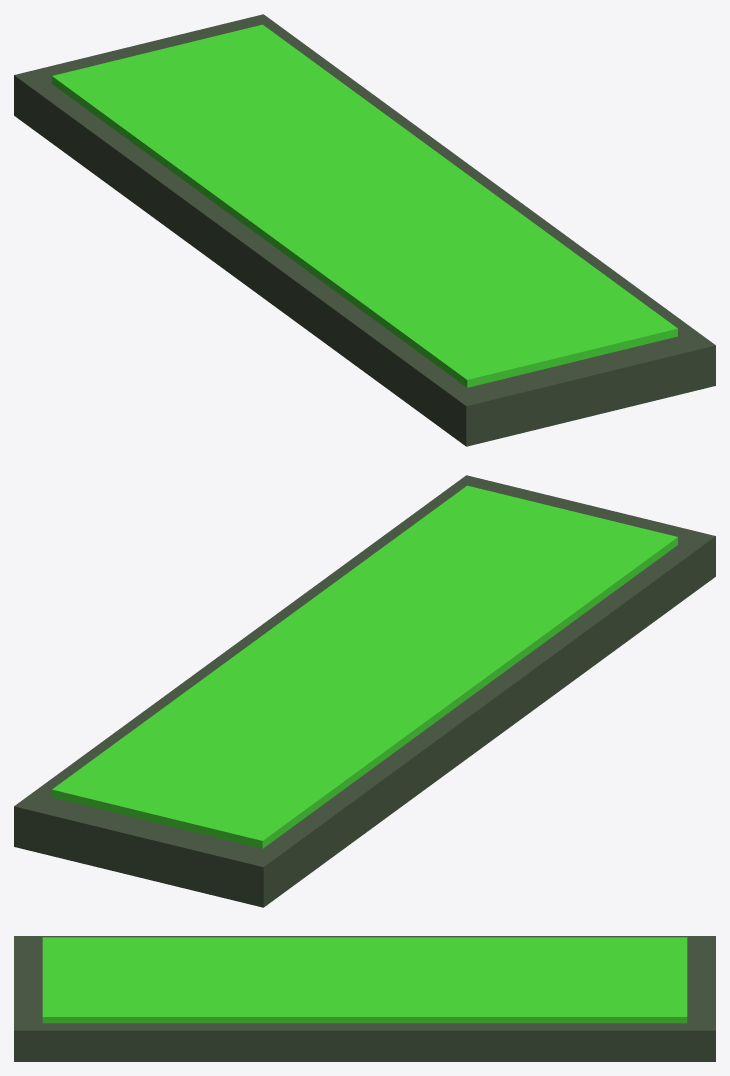
File: GreenBar.fbx
The picture shows the model from 3 angles, top to bottom: view 1: azimuth 30°, elevation 25°; view 2: azimuth 150°, elevation 25°; view 3: azimuth 270°, elevation 25°; orthographic projection. The views are drawn at different scales.
Visible parts, largest first — view 1: GreenPart; view 2: GreenPart; view 3: GreenPart.
Part boxes in pixels (box(x1,y1,x2,y2)): GreenPart: box(14, 14, 715, 446); GreenPart: box(14, 475, 715, 907); GreenPart: box(14, 936, 715, 1061).
Bounding box in the file's own units: 263 × 51.2 × 825.
